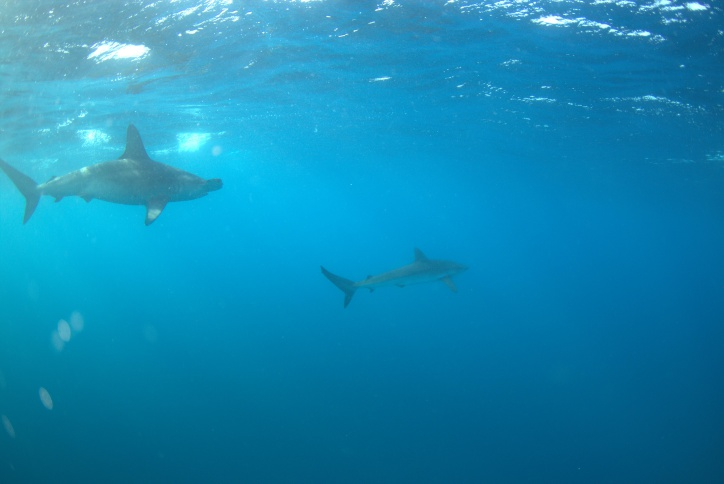Sedoso: (309, 233, 491, 309)
